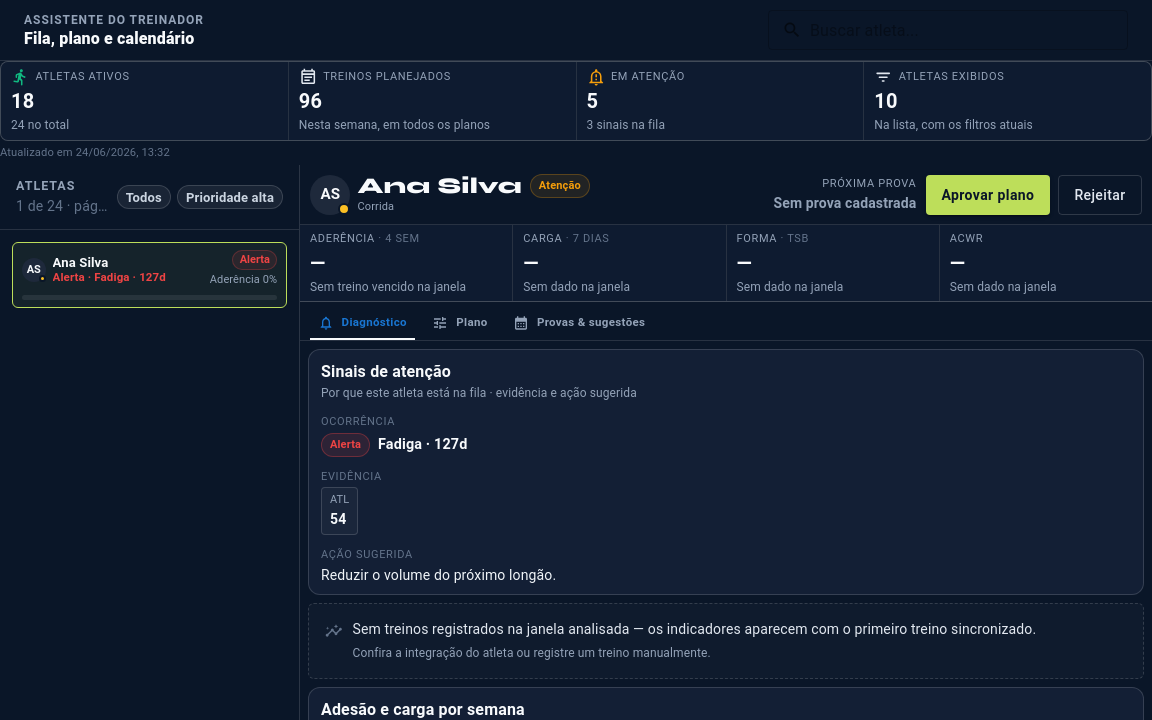
CoachInboxPage › mostra provas e sugestões do ATLETA na aba Provas & sugestões (não o calendário global)
This screenshot has width=1152, height=720.
Step 1. Click the tab "Provas & sugestões" → (579, 322), box [505,306,653,340]
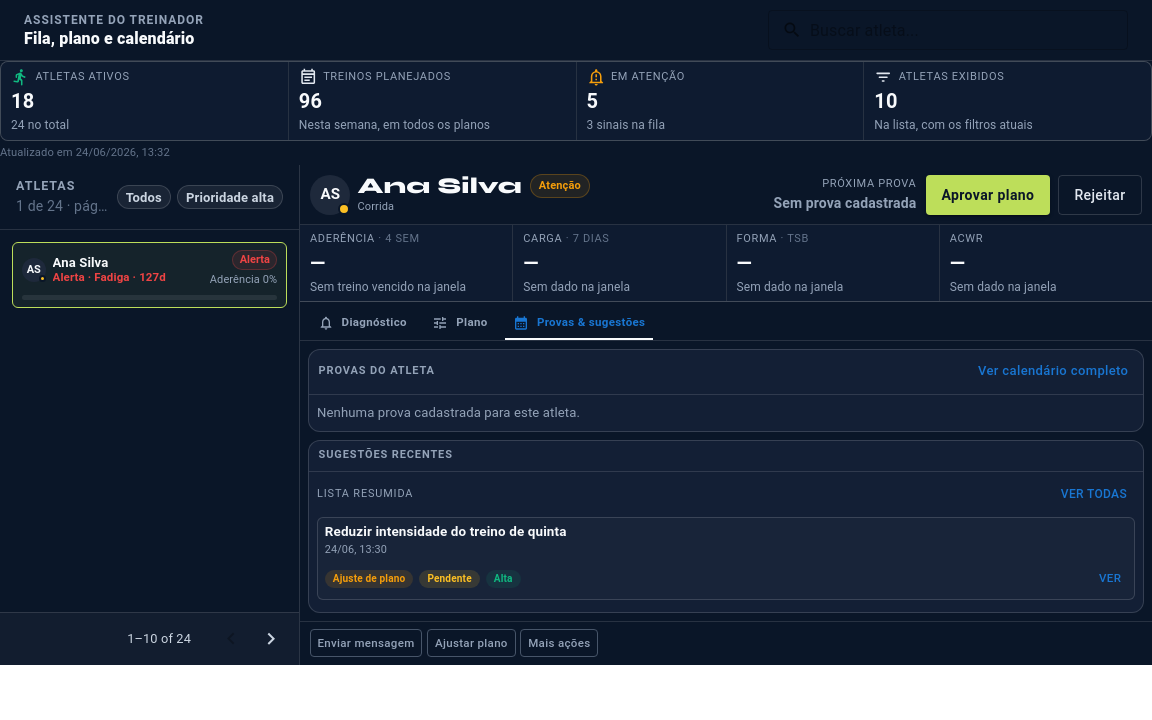
Now the text "Provas do atleta" is shown, box [319,364,435,380]
Now the text "Sugestões recentes" is shown, box [319,447,453,464]
Now the text "Reduzir intensidade do treino de quinta" is shown, box [325,524,566,540]
